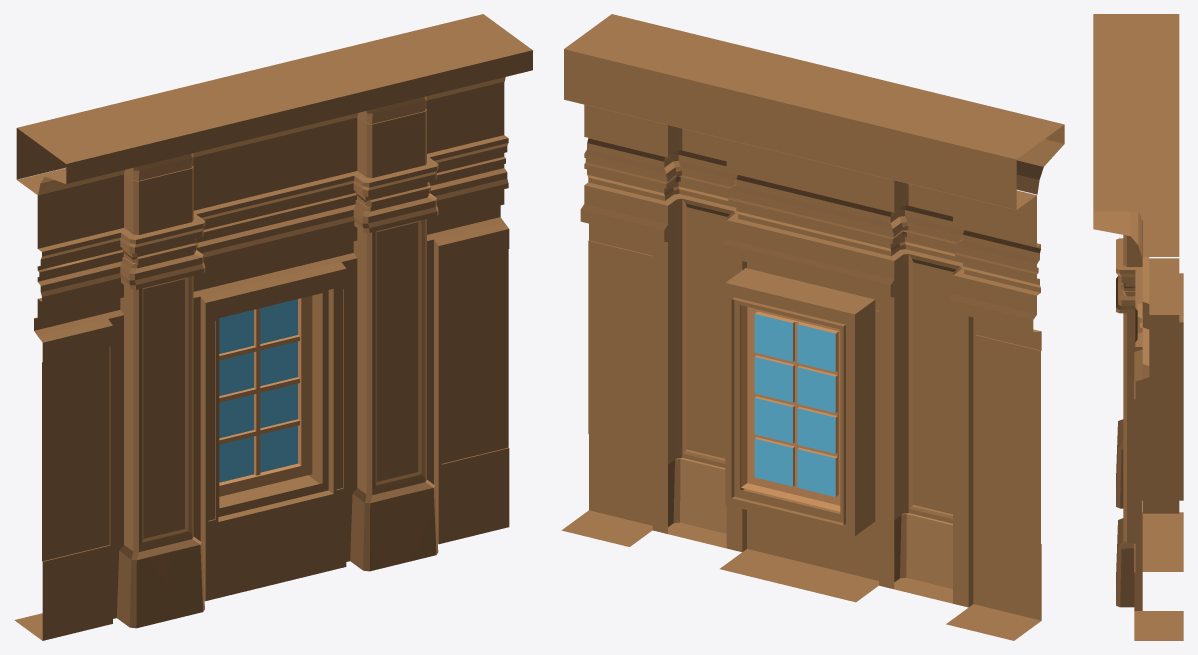
The model's file is O_V_FacadeType1_Up.fbx.
3 renders of one model, left to right at view 1: azimuth 30°, elevation 25°; view 2: azimuth 150°, elevation 25°; view 3: azimuth 270°, elevation 25°, orthographic. The views are drawn at different scales.
Parts seen in each view (by area): view 1: O_FacadeType1_Up; view 2: O_FacadeType1_Up; view 3: O_FacadeType1_Up.
Part boxes in pixels (x1=…): O_FacadeType1_Up: x1=14, y1=14, x2=532, y2=640; O_FacadeType1_Up: x1=561, y1=14, x2=1064, y2=640; O_FacadeType1_Up: x1=1093, y1=14, x2=1183, y2=640.
Size of the model in its own units: 6.42 by 6.5 by 1.24.
